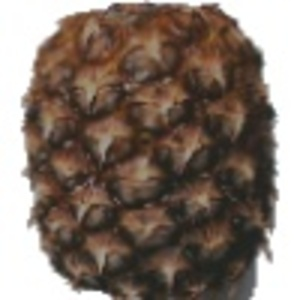abacaxi: (11, 4, 287, 292)
